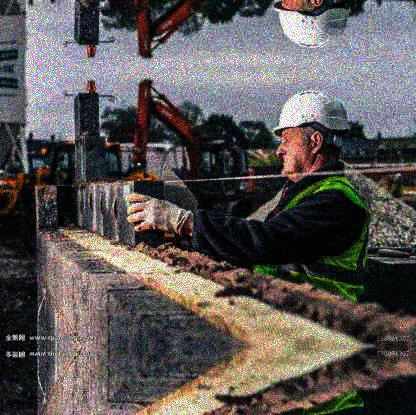helmet: (273, 91, 350, 174)
